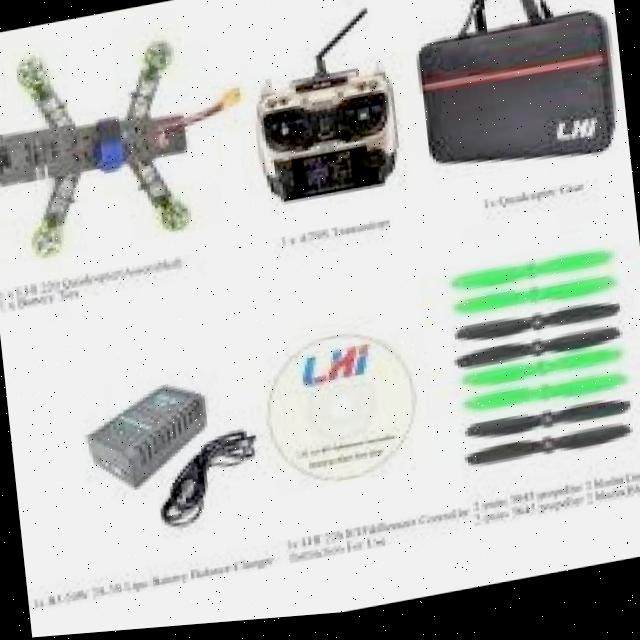drone: (0, 10, 252, 281)
